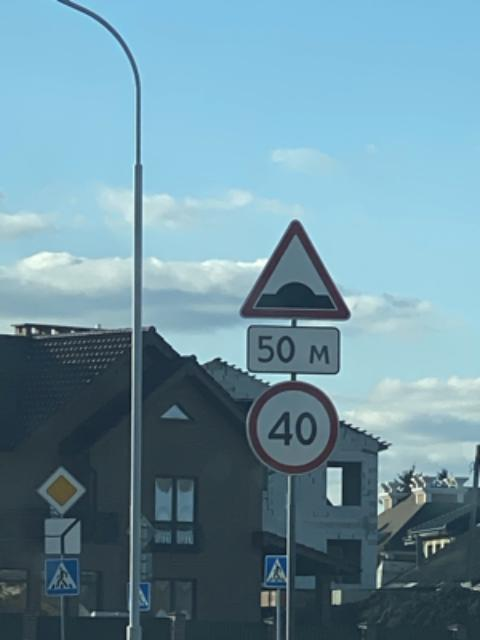crosswalk-sign: (48, 562, 79, 599), (266, 558, 289, 588)
